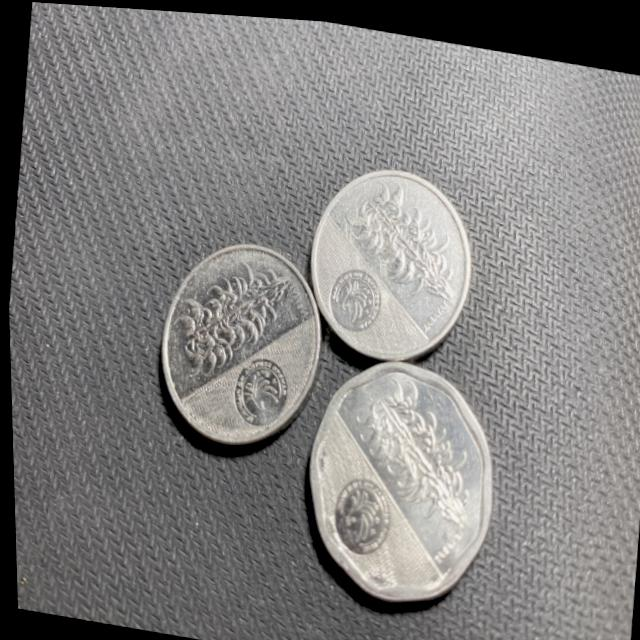5_New_Back: (343, 381, 478, 526), (175, 240, 298, 377), (339, 176, 460, 298)
